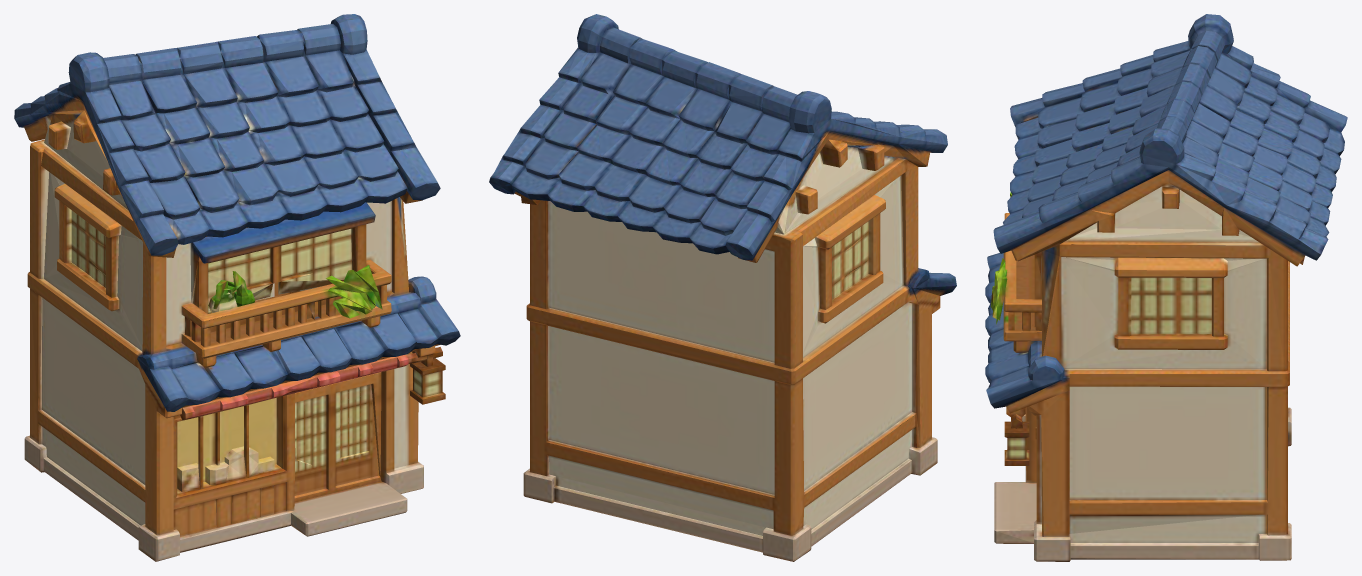
File: shopb-D0a-u3hb.glb
3 renders of one model, left to right at view 1: azimuth 30°, elevation 25°; view 2: azimuth 150°, elevation 25°; view 3: azimuth 270°, elevation 25°, orthographic.
Visible parts, largest first — view 1: tripo_node_be7d4f1e-d1c9-4a41-97ce-c01ab3170544; view 2: tripo_node_be7d4f1e-d1c9-4a41-97ce-c01ab3170544; view 3: tripo_node_be7d4f1e-d1c9-4a41-97ce-c01ab3170544.
Boxes of the visible parts, x1,y1,x2,y2 form: tripo_node_be7d4f1e-d1c9-4a41-97ce-c01ab3170544: [14, 14, 460, 561]; tripo_node_be7d4f1e-d1c9-4a41-97ce-c01ab3170544: [489, 14, 956, 561]; tripo_node_be7d4f1e-d1c9-4a41-97ce-c01ab3170544: [985, 14, 1347, 561].
Bounding box in the file's own units: 0.7177 × 0.978 × 0.7561.
1 material, 1 textured.
